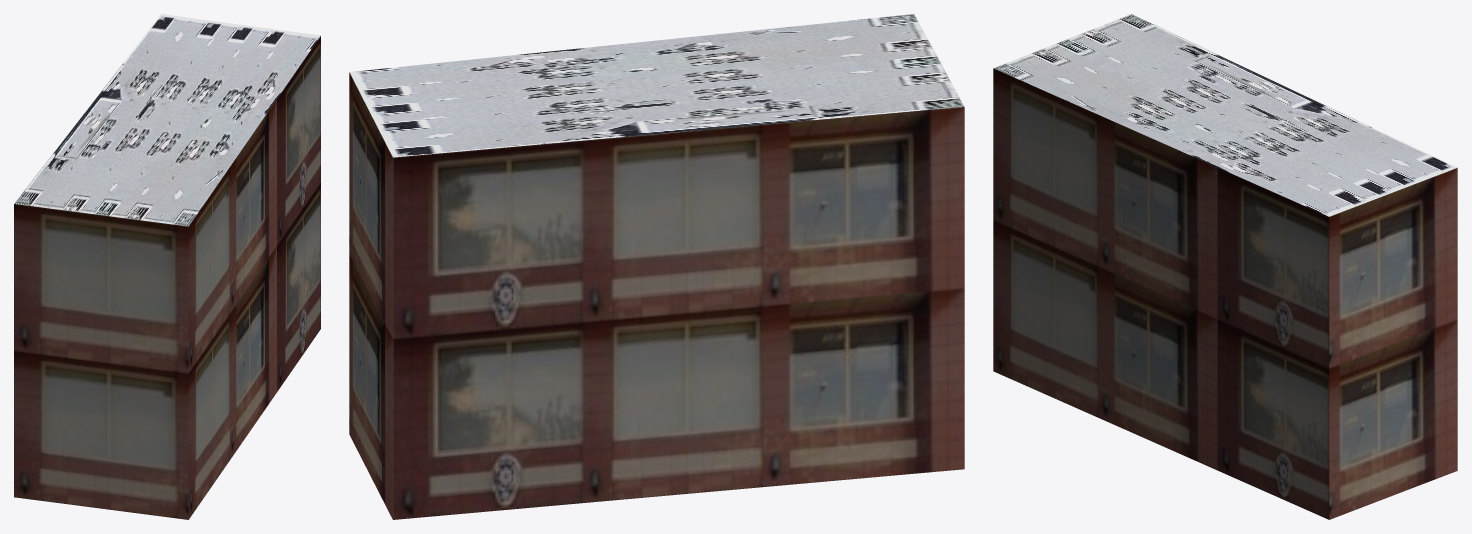
File: ResTex__3076.fbx
3 renders of one model, left to right at view 1: azimuth 30°, elevation 25°; view 2: azimuth 150°, elevation 25°; view 3: azimuth 270°, elevation 25°, orthographic. The views are drawn at different scales.
Visible parts, largest first — view 1: CityEngineMaterial_13_m, CityEngineMaterial_4_m; view 2: CityEngineMaterial_13_m, CityEngineMaterial_4_m; view 3: CityEngineMaterial_13_m, CityEngineMaterial_4_m.
Boxes of the visible parts, <box> form: CityEngineMaterial_13_m: <box>14,36,320,519</box>; CityEngineMaterial_4_m: <box>14,14,320,226</box>; CityEngineMaterial_13_m: <box>349,72,964,519</box>; CityEngineMaterial_4_m: <box>349,14,964,157</box>; CityEngineMaterial_13_m: <box>993,68,1457,519</box>; CityEngineMaterial_4_m: <box>994,14,1456,216</box>.
Size of the model in its own units: 8.61 by 6 by 8.33.
2 materials, 2 textured.
